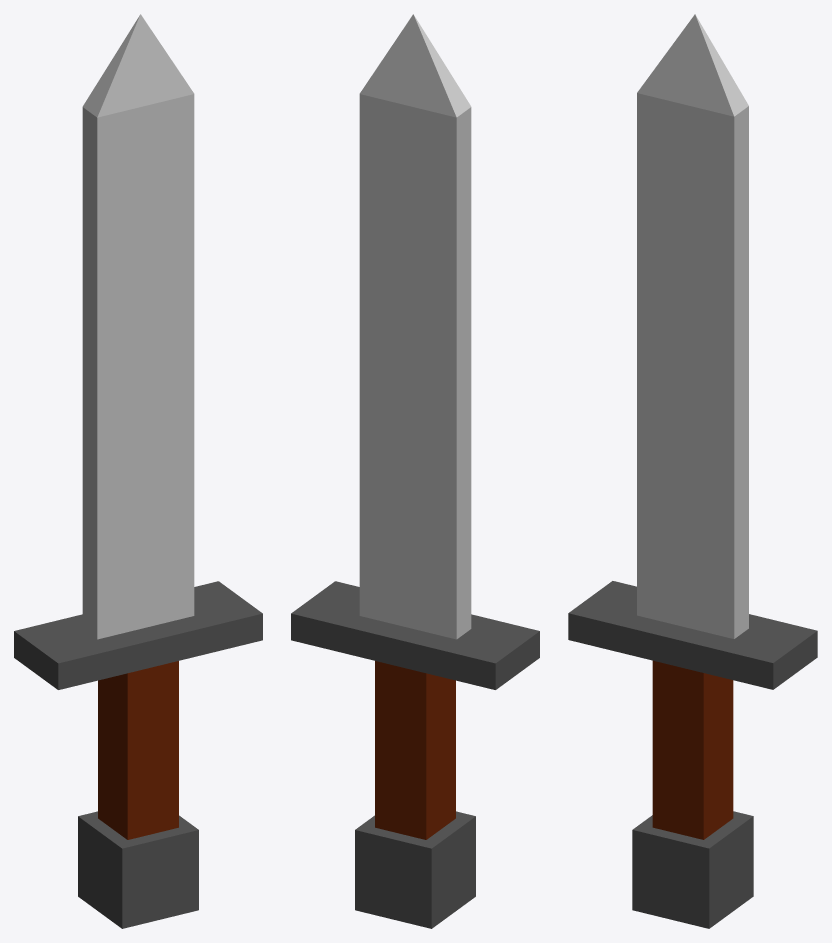
Rendered from simple_sword.fbx.
3 renders of one model, left to right at view 1: azimuth 30°, elevation 25°; view 2: azimuth 150°, elevation 25°; view 3: azimuth 330°, elevation 25°, orthographic.
Visible parts, largest first — view 1: SwordBlade, HandGuardAndBevel, SwordHilt; view 2: SwordBlade, HandGuardAndBevel, SwordHilt; view 3: SwordBlade, HandGuardAndBevel, SwordHilt.
Part boxes in pixels (left/top/right/bottom): SwordBlade: left=82, top=14, right=194, bottom=639; HandGuardAndBevel: left=14, top=581, right=262, bottom=928; SwordHilt: left=98, top=661, right=178, bottom=839; SwordBlade: left=359, top=14, right=471, bottom=639; HandGuardAndBevel: left=291, top=581, right=539, bottom=928; SwordHilt: left=375, top=661, right=455, bottom=839; SwordBlade: left=637, top=14, right=748, bottom=638; HandGuardAndBevel: left=568, top=581, right=817, bottom=928; SwordHilt: left=652, top=660, right=733, bottom=839.
Size of the model in its own units: 40 by 166 by 15.
